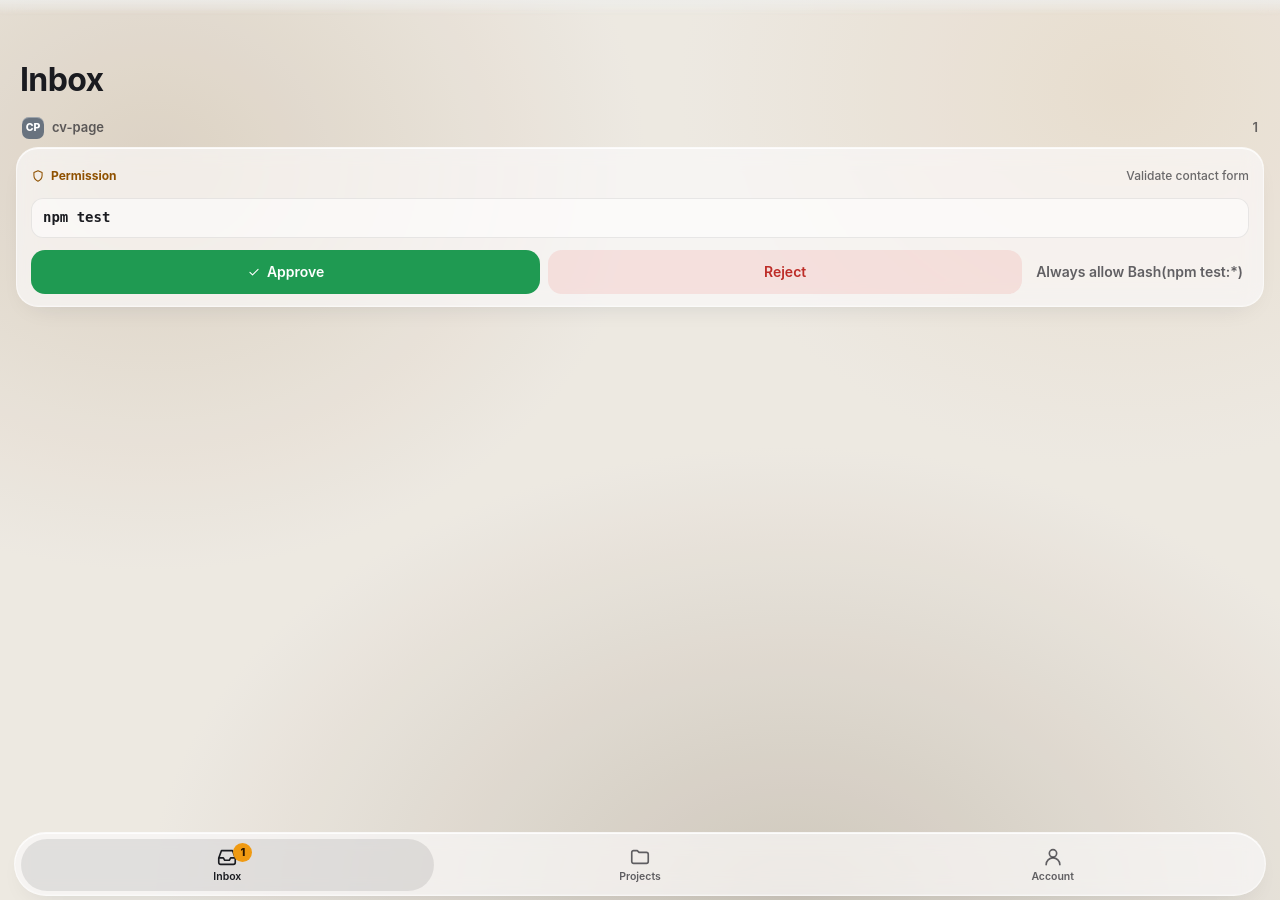
Inbox › names Claude Code's suggested rule on Always allow
Expected: the navigation bar named "Sections" is shown, [14, 832, 1266, 896]
Click the button "Always allow Bash(npm test:*)".
click(1140, 272)  # box [1030, 250, 1249, 294]
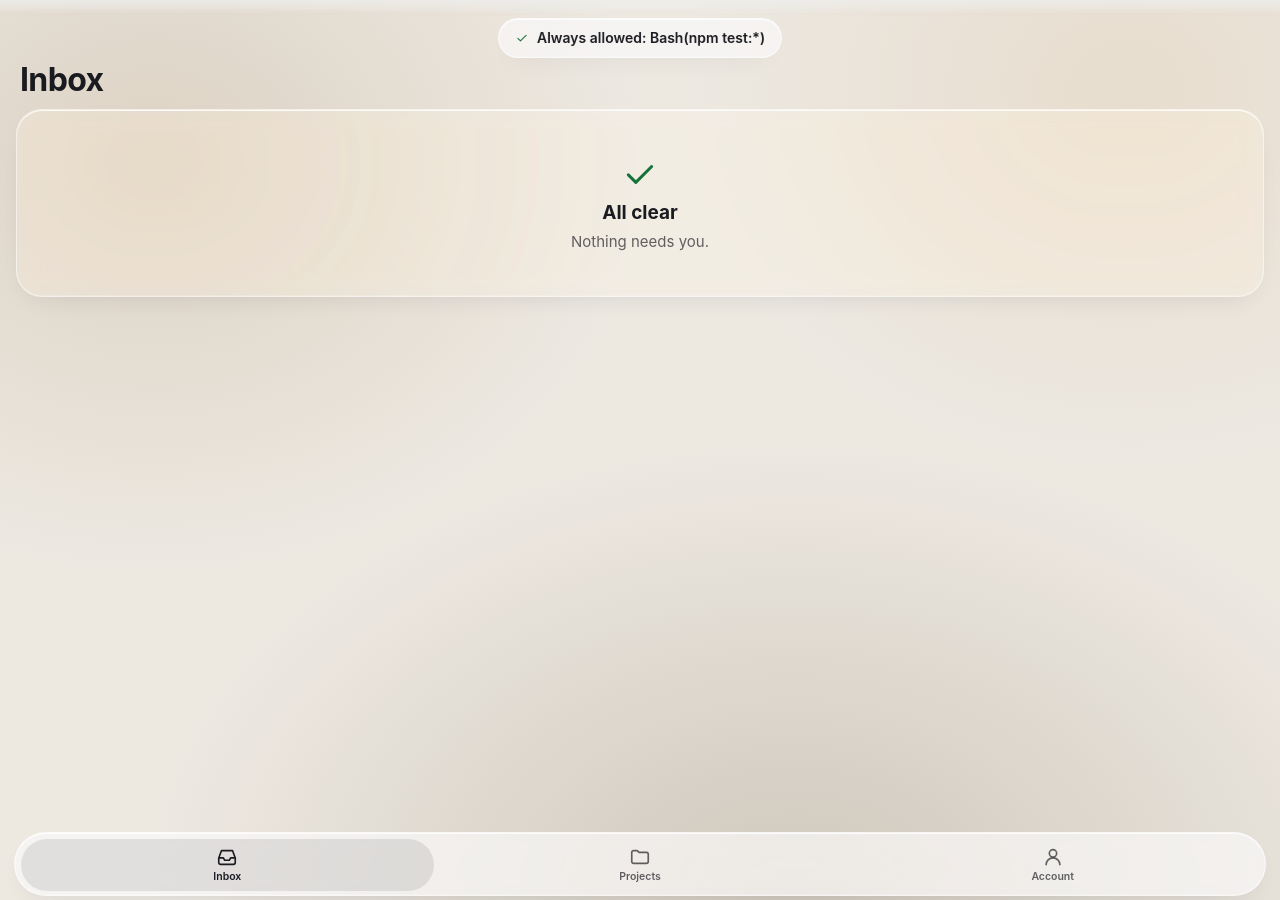
Now the text "Always allowed: Bash(npm test:*)" is shown, box [537, 29, 765, 47]
